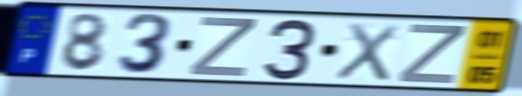3: (259, 16, 320, 83), (115, 12, 177, 77)
8: (61, 11, 112, 73)
X: (331, 20, 402, 84)
Z: (395, 22, 469, 86), (186, 15, 260, 79)
